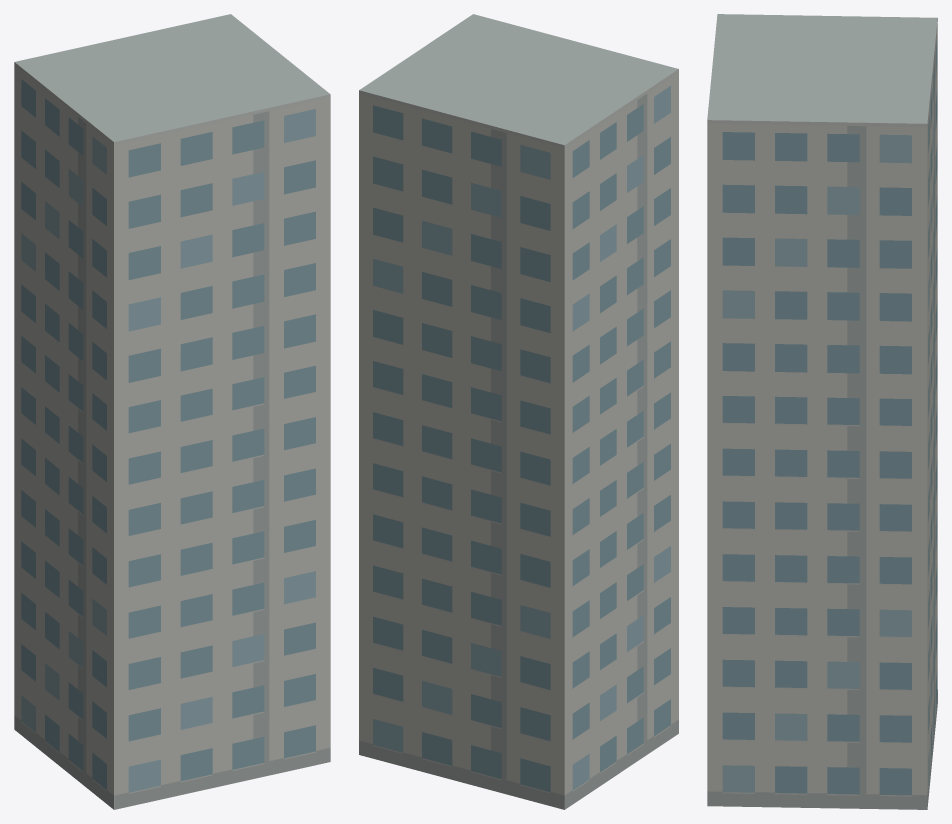
The model's file is residential-52bda80d-cfca-4dd7-9b0b-b1a08b0d4433.glb.
The picture shows the model from 3 angles, left to right: view 1: azimuth 30°, elevation 25°; view 2: azimuth 150°, elevation 25°; view 3: azimuth 270°, elevation 25°; orthographic projection. The views are drawn at different scales.
Parts seen in each view (by area): view 1: residential-52bda80d-cfca-4dd7-9b0b-b1a08b0d4433.tmp; view 2: residential-52bda80d-cfca-4dd7-9b0b-b1a08b0d4433.tmp; view 3: residential-52bda80d-cfca-4dd7-9b0b-b1a08b0d4433.tmp.
Part boxes in pixels (left/top/right/bottom): residential-52bda80d-cfca-4dd7-9b0b-b1a08b0d4433.tmp: left=14, top=14, right=330, bottom=809; residential-52bda80d-cfca-4dd7-9b0b-b1a08b0d4433.tmp: left=359, top=14, right=678, bottom=809; residential-52bda80d-cfca-4dd7-9b0b-b1a08b0d4433.tmp: left=707, top=14, right=937, bottom=809.
Size of the model in its own units: 16.49 by 48 by 14.63.
